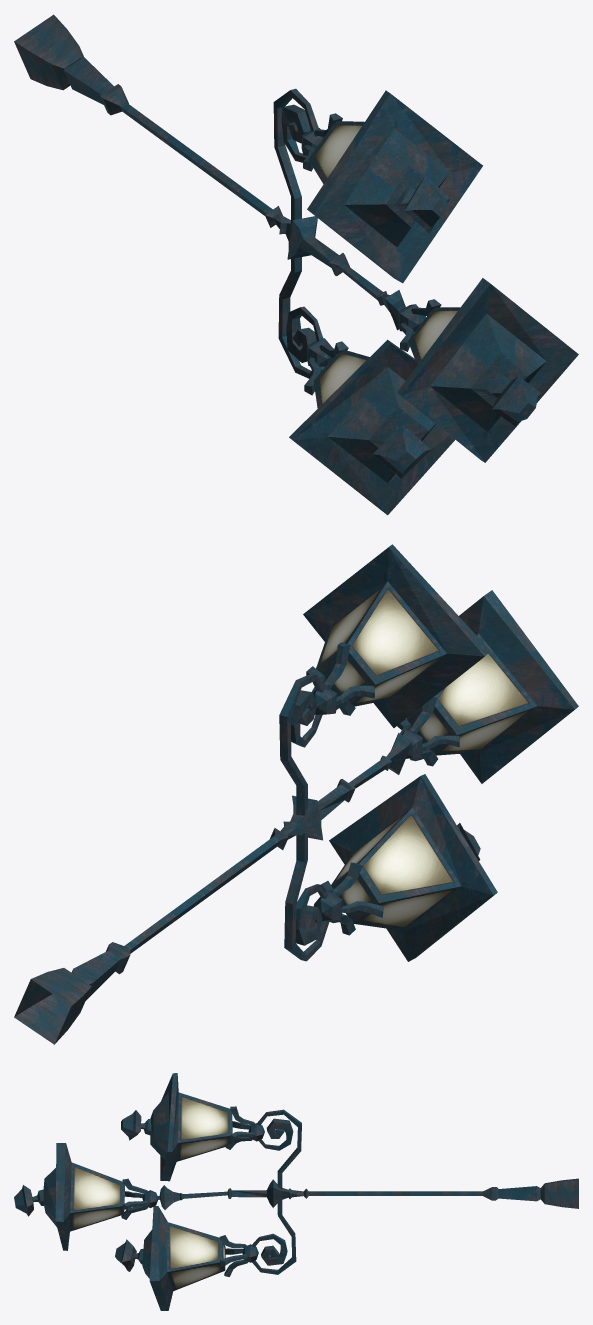
Rendered from Luce strada.obj.
3 views of the same model, one above another, from view 1: azimuth 30°, elevation 25°; view 2: azimuth 150°, elevation 25°; view 3: azimuth 270°, elevation 25° (orthographic). The views are drawn at different scales.
Parts seen in each view (by area): view 1: Object.1; view 2: Object.1; view 3: Object.1.
Boxes of the visible parts, x1,y1,x2,y2 form: Object.1: [14, 14, 578, 515]; Object.1: [14, 544, 578, 1044]; Object.1: [14, 1073, 578, 1310].
Size of the model in its own units: 13.37 by 27.68 by 58.69.
1 material, 1 textured.
